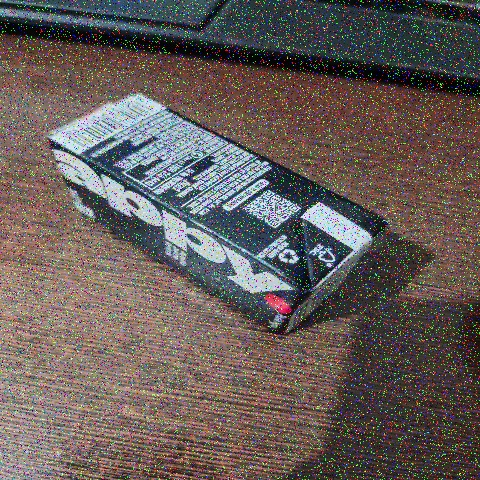appy: (43, 75, 399, 353)
